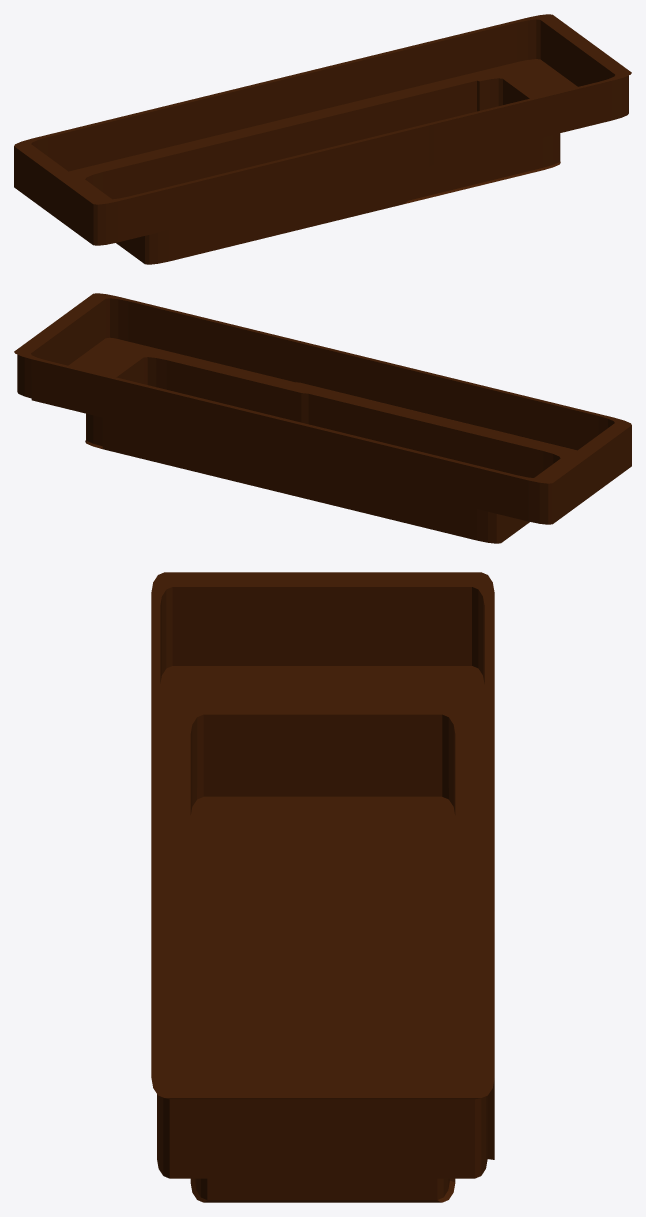
The model's file is ПТ-КрышкаСтыковки_П.fbx.
The picture shows the model from 3 angles, top to bottom: view 1: azimuth 30°, elevation 25°; view 2: azimuth 150°, elevation 25°; view 3: azimuth 270°, elevation 25°; orthographic projection. The views are drawn at different scales.
Visible parts, largest first — view 1: Крышка стыковки.001; view 2: Крышка стыковки.001; view 3: Крышка стыковки.001.
Boxes of the visible parts, bbox=[...] form: Крышка стыковки.001: bbox=[14, 14, 631, 264]; Крышка стыковки.001: bbox=[14, 293, 631, 543]; Крышка стыковки.001: bbox=[151, 572, 494, 1202].
Size of the model in its own units: 153 by 22.33 by 42.2.
Materials: 1 (1 with a texture image).
